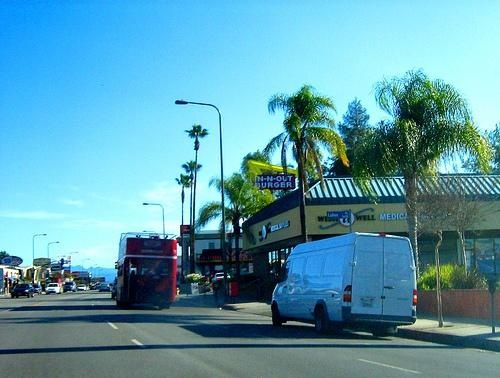bus: (116, 230, 174, 314)
car: (270, 232, 419, 337), (11, 283, 36, 301), (44, 281, 63, 297)
